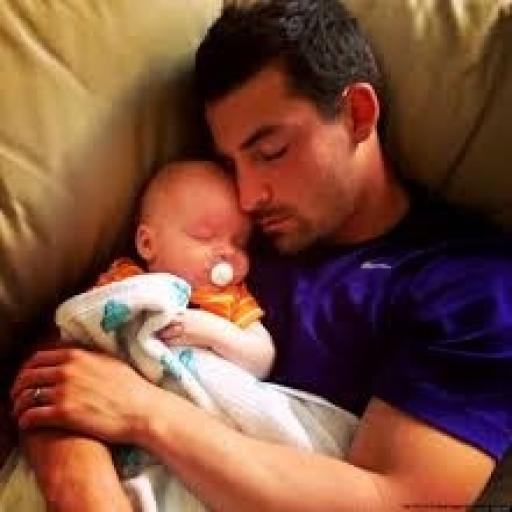sleeping: (7, 0, 510, 510)
